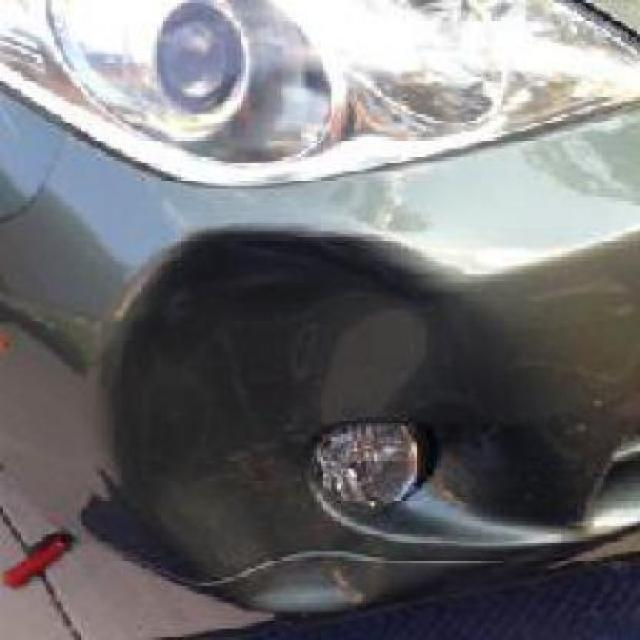dent-or-scratch: (105, 210, 538, 621)
